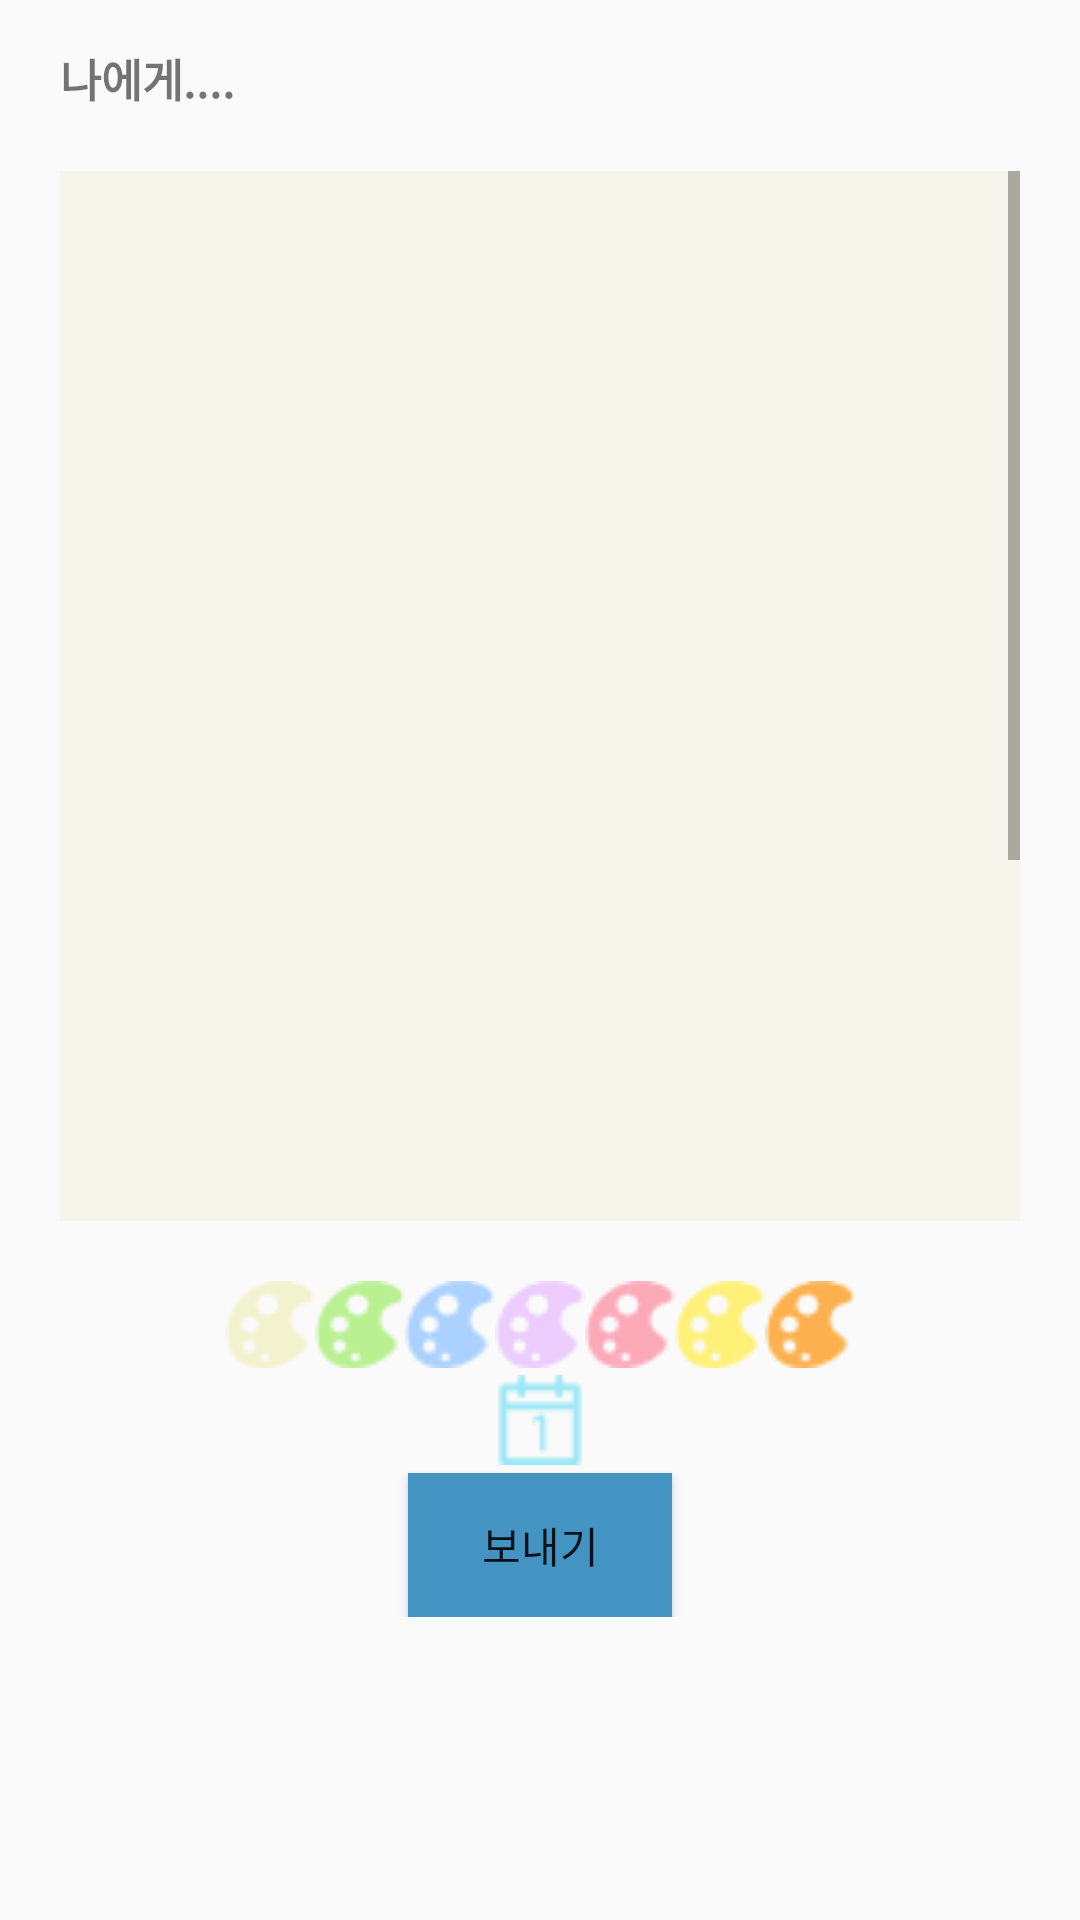

Screen size 1080px×1920px. Icon name, then its center in pixels as [x,y]:
calendar: [540,1420]
